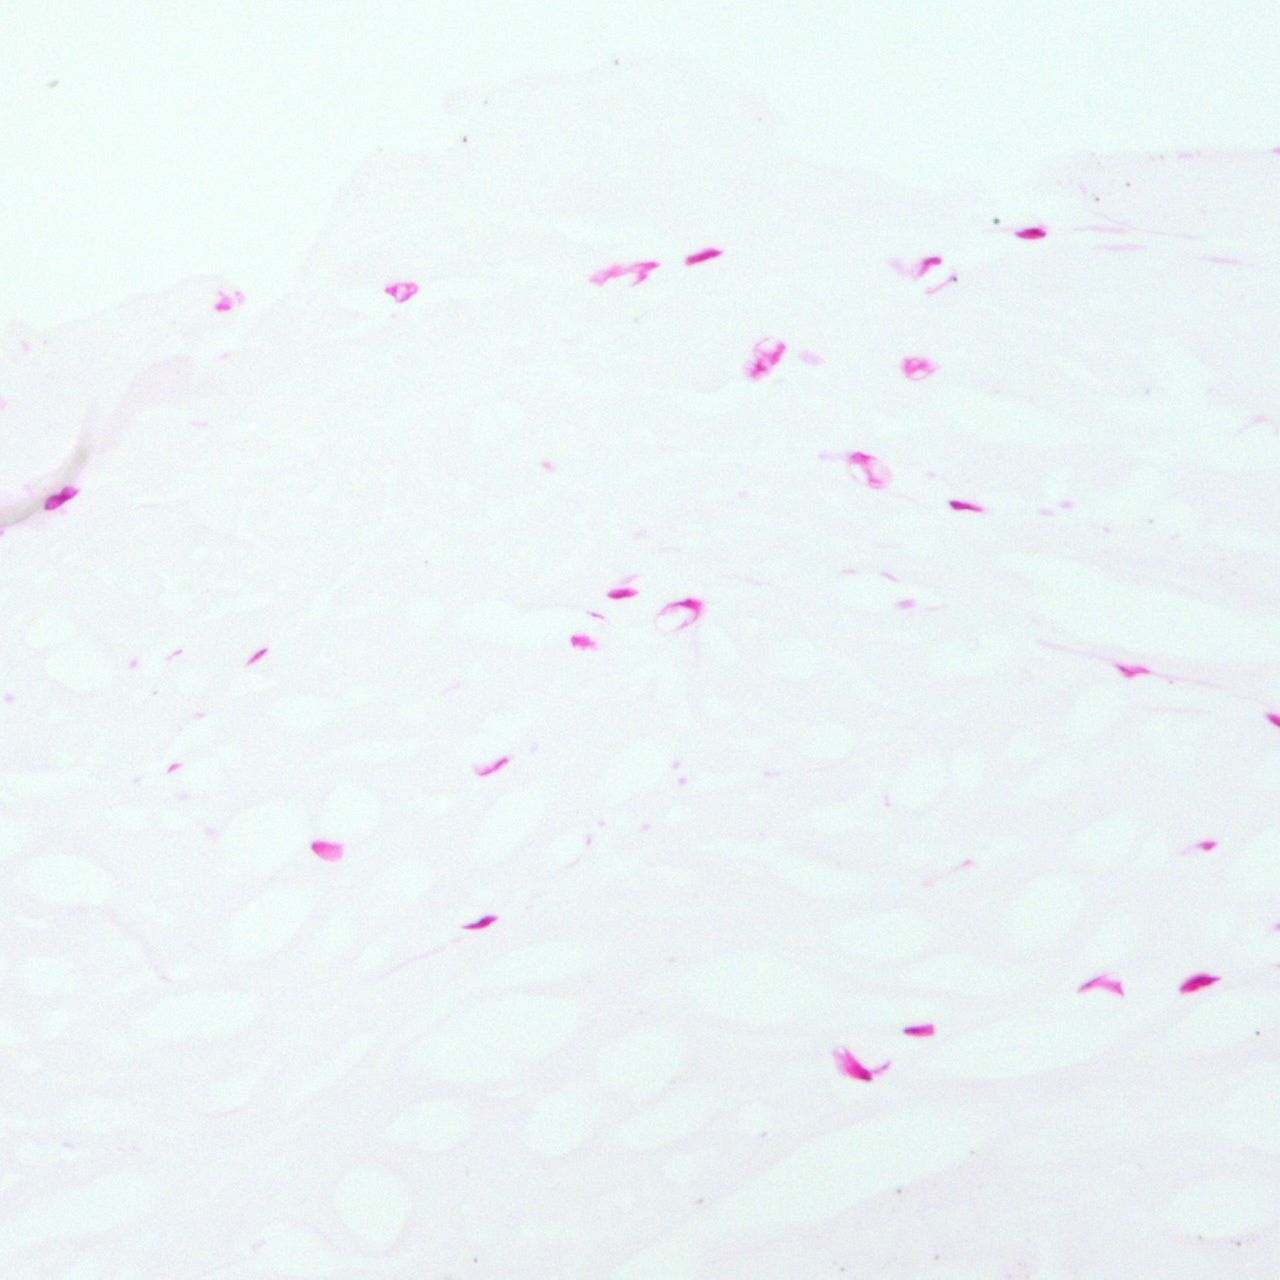dust: (48, 79, 59, 86), (992, 217, 1000, 224), (462, 135, 467, 142), (1094, 196, 1099, 200), (1126, 181, 1130, 185)
nucleus-FG: (835, 1046, 876, 1085), (39, 478, 81, 515), (1175, 965, 1223, 996), (903, 248, 946, 282), (457, 911, 499, 937), (681, 243, 722, 268), (948, 498, 980, 515), (1114, 663, 1149, 678), (607, 586, 636, 600), (571, 634, 599, 648), (905, 1023, 933, 1036), (1016, 227, 1046, 238)
